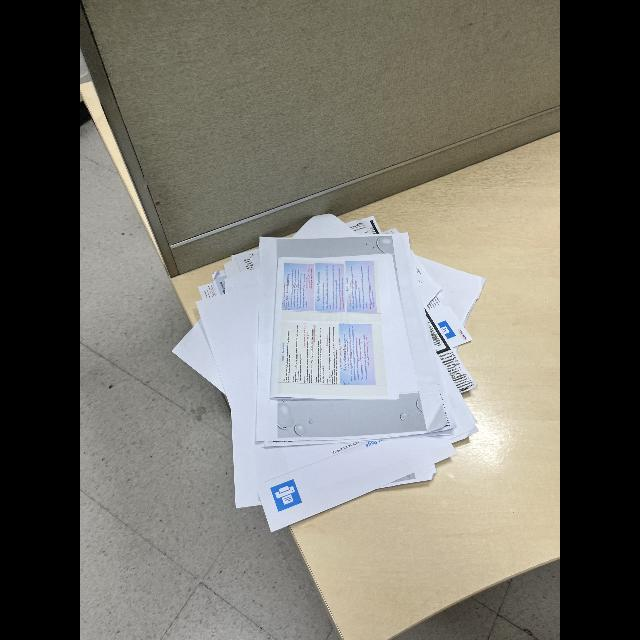reuseable_paper: (168, 207, 488, 535)
